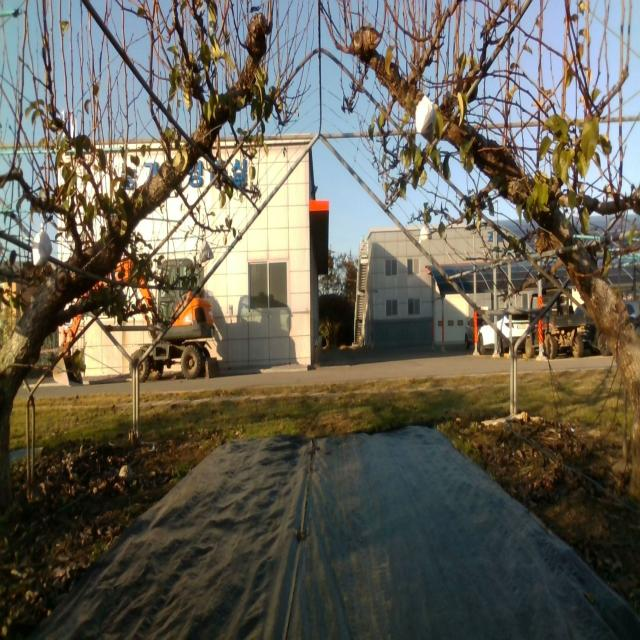pearbags: (31, 222, 54, 269), (416, 95, 436, 141), (199, 239, 214, 264), (417, 223, 432, 244)
